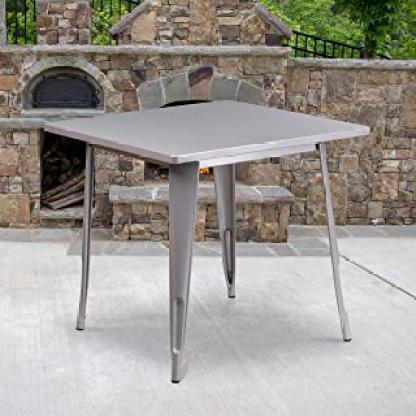table: (42, 92, 374, 390)
